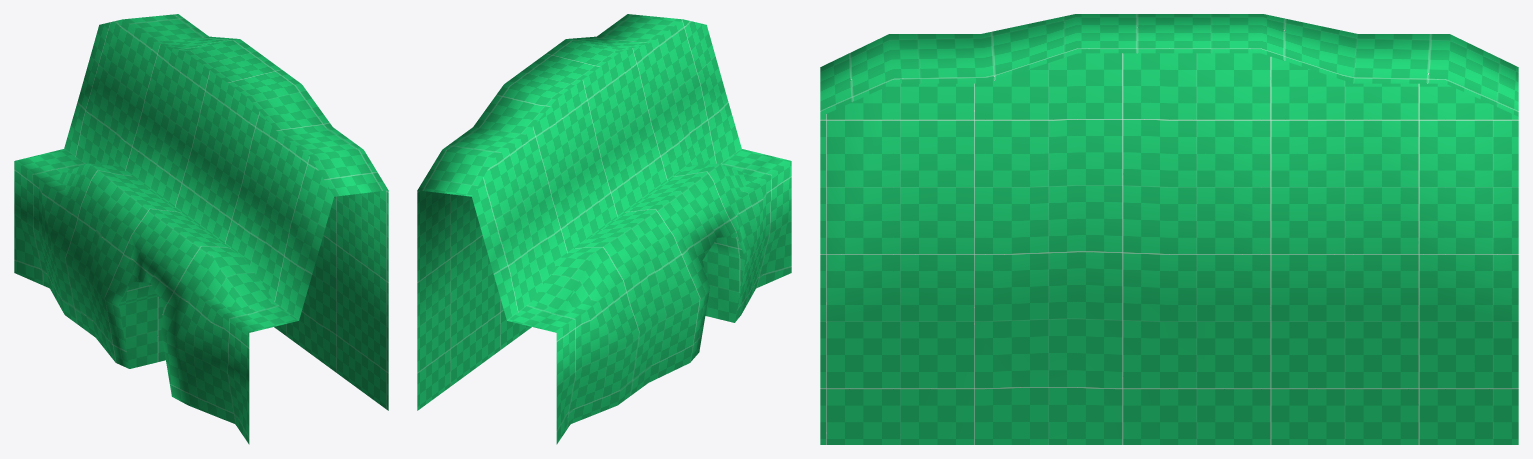
File: SM_mountain_tunnel.fbx
The picture shows the model from 3 angles, left to right: view 1: azimuth 30°, elevation 25°; view 2: azimuth 150°, elevation 25°; view 3: azimuth 270°, elevation 25°; orthographic projection. The views are drawn at different scales.
Parts seen in each view (by area): view 1: Cube.043; view 2: Cube.043; view 3: Cube.043.
Boxes of the visible parts, x1,y1,x2,y2 form: Cube.043: [14, 14, 388, 444]; Cube.043: [417, 14, 791, 444]; Cube.043: [820, 14, 1518, 444].
Size of the model in its own units: 1550 by 2350 by 3800.
